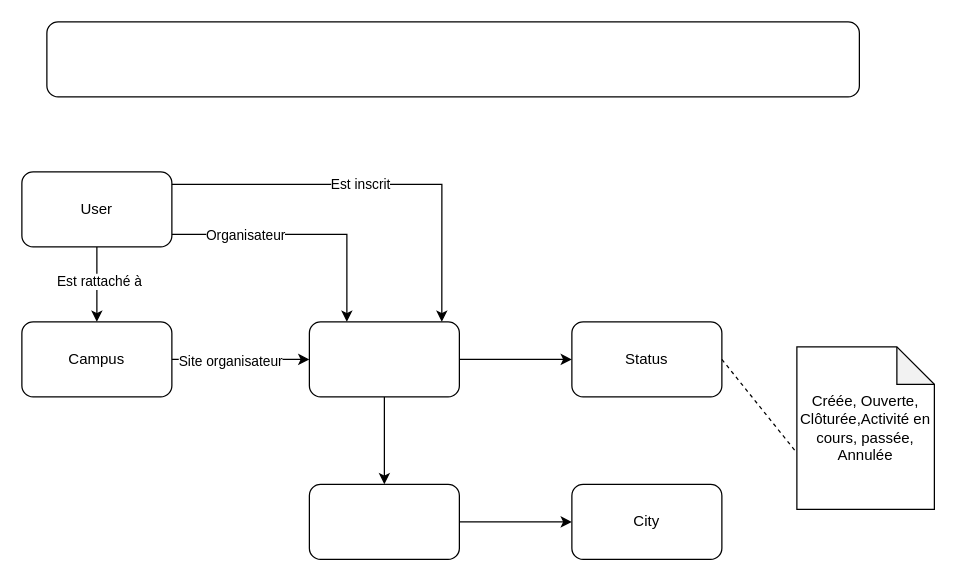
Image size: 956x581. Some labels were removed from this diagram. Here are the shapes that lost their labels. From the top down, the box of each, then its label:
(46, 21, 859, 97): MCD: Modèle Conceptuel des Données
(308, 321, 459, 397): Hangout
(308, 483, 459, 559): Spot
